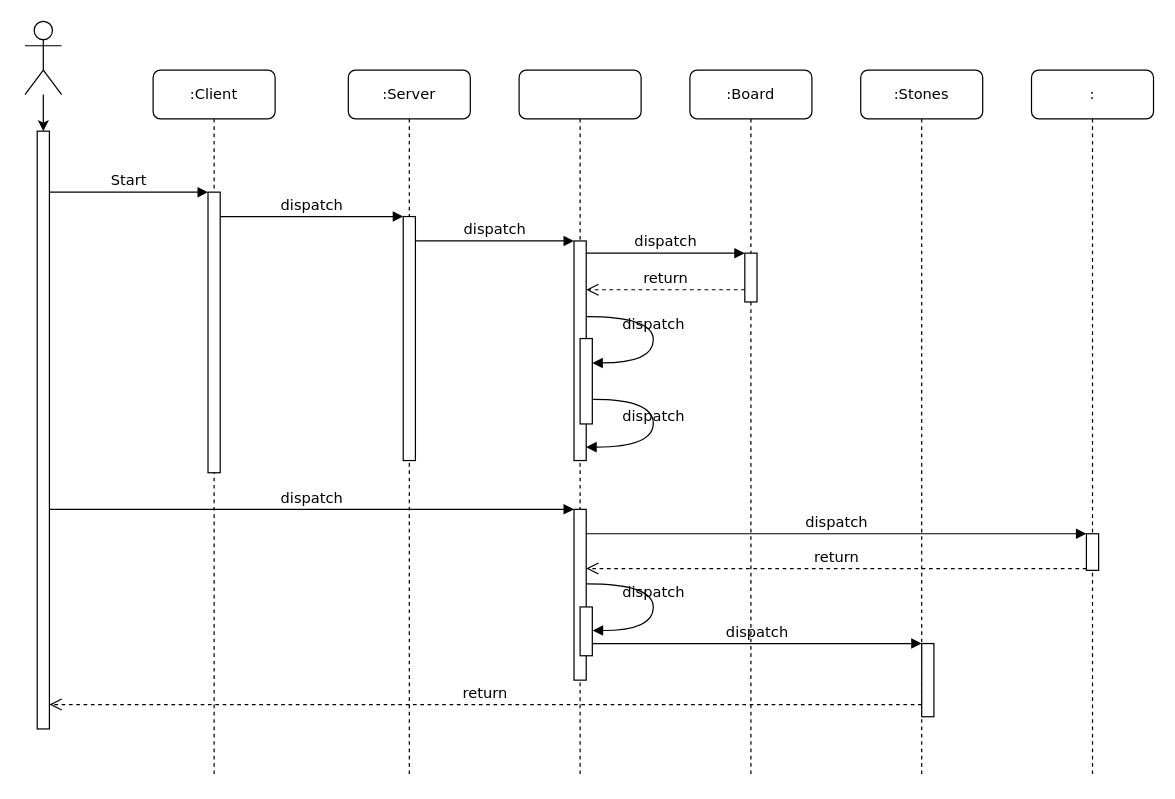
The diagram is 1175 pixels wide and 799 high, and some of its shapes have lost their labels. Each missing label, with the centre of its shape:
:Game: the point at 579,423
:Player: the point at 43,57
